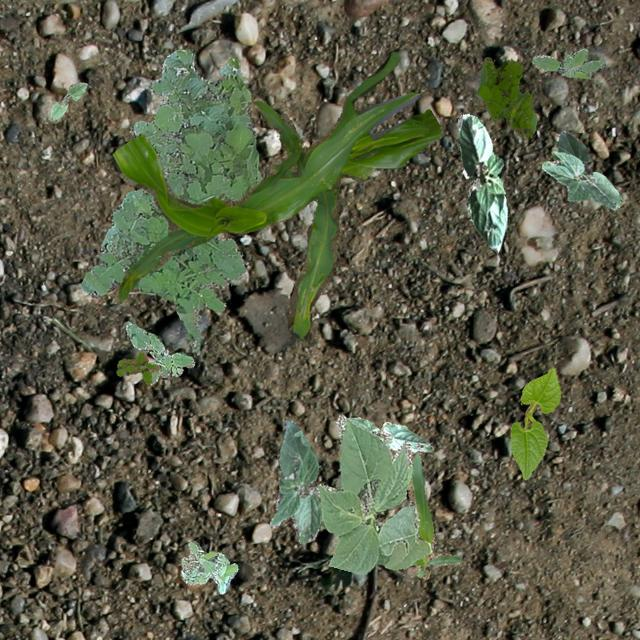crop: (112, 51, 440, 340), (316, 414, 432, 574), (374, 450, 460, 578), (457, 112, 508, 254), (268, 418, 320, 544), (540, 130, 620, 208), (510, 368, 560, 478), (348, 416, 432, 452), (49, 82, 86, 120)
weed: (80, 49, 260, 354), (476, 56, 536, 136), (124, 320, 194, 384), (180, 540, 237, 594), (530, 48, 604, 78), (114, 351, 158, 384)
